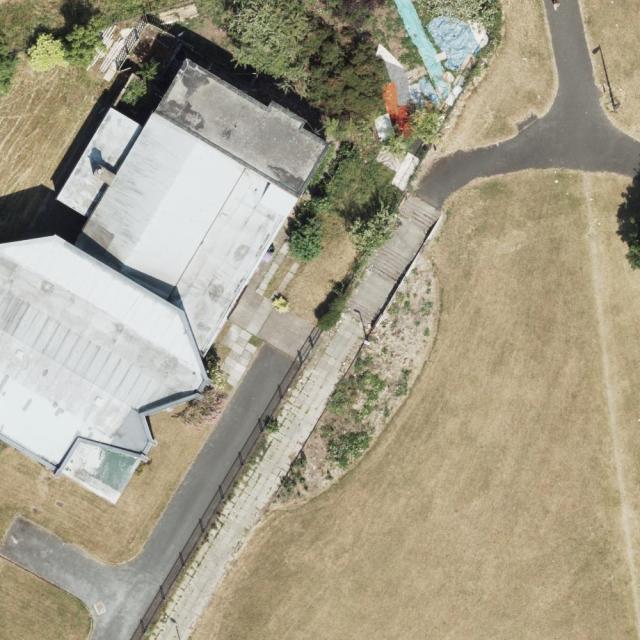roof: (0, 54, 330, 507)
